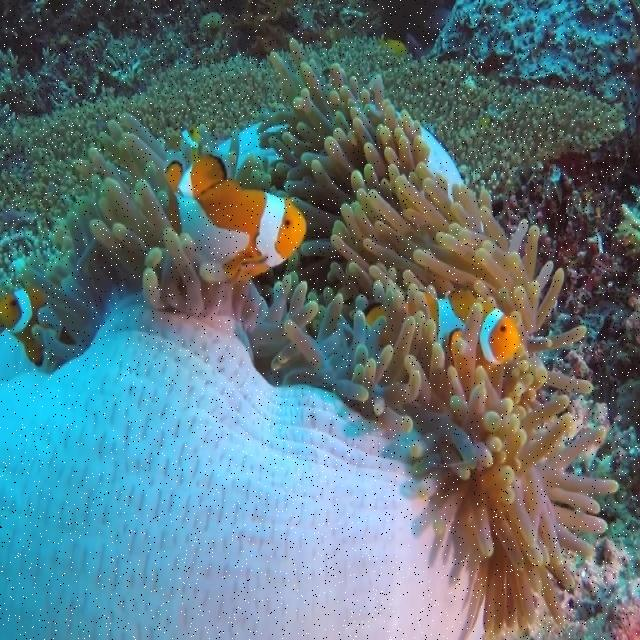fish: (164, 155, 312, 280), (426, 287, 519, 365), (0, 292, 52, 370)
reefs: (26, 38, 614, 634), (0, 289, 475, 640), (303, 39, 628, 181), (3, 60, 277, 223)
